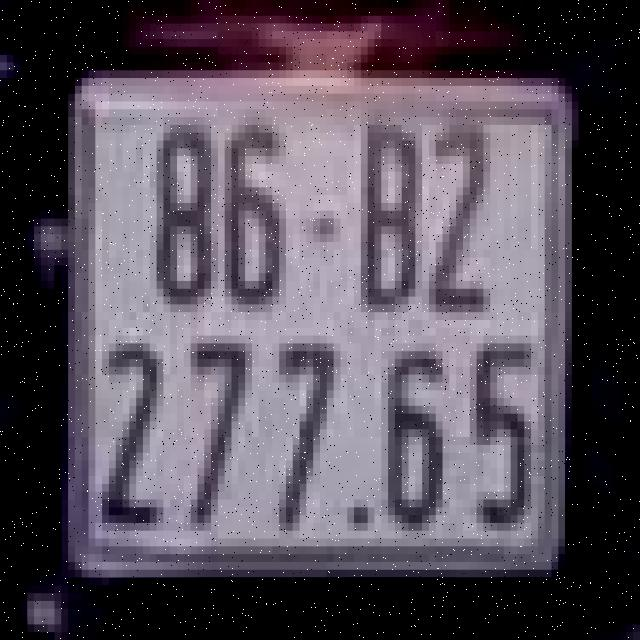2: (429, 121, 490, 324), (105, 336, 167, 530)
5: (470, 336, 538, 530)
6: (378, 336, 453, 530), (221, 121, 283, 316)
7: (184, 332, 252, 527), (272, 336, 340, 530)
8: (153, 113, 215, 308)
B: (358, 113, 426, 316)
